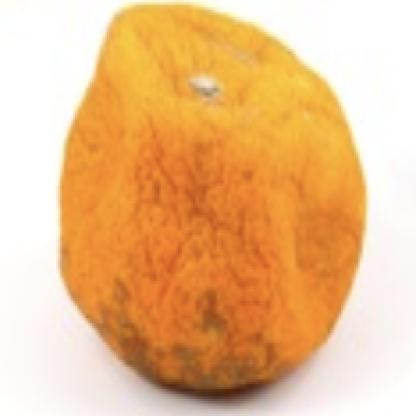rotten: (57, 5, 368, 396)
